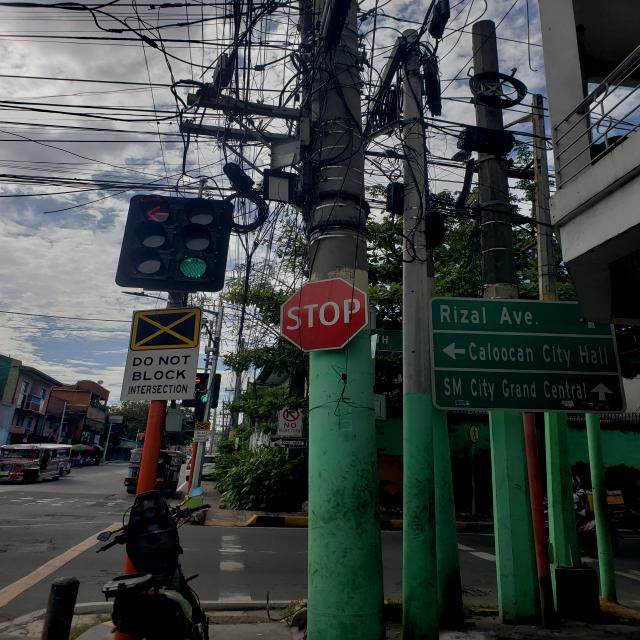stop-sign: (280, 277, 369, 352)
